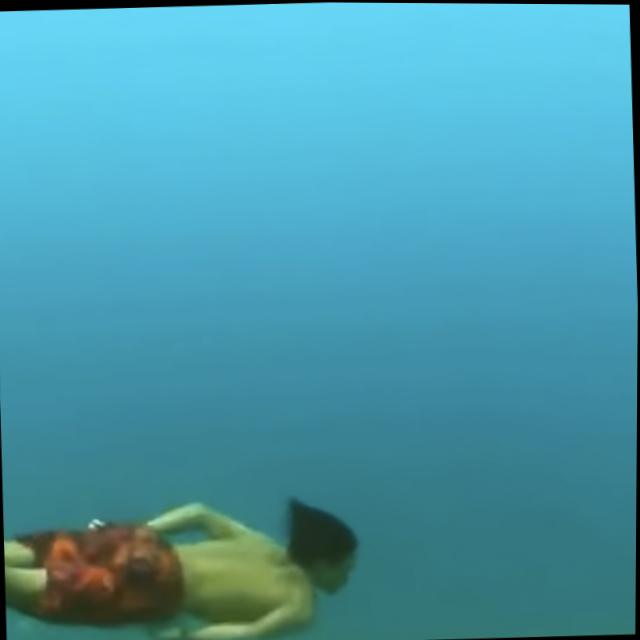human: (2, 481, 372, 640)
